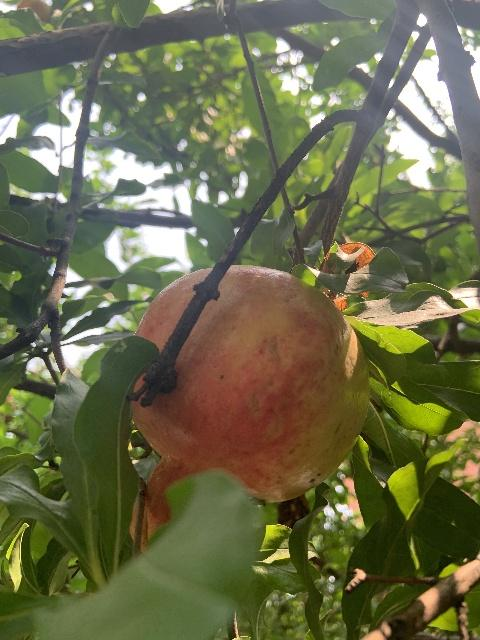bud: (17, 0, 51, 20)
ripe: (130, 265, 368, 540)
